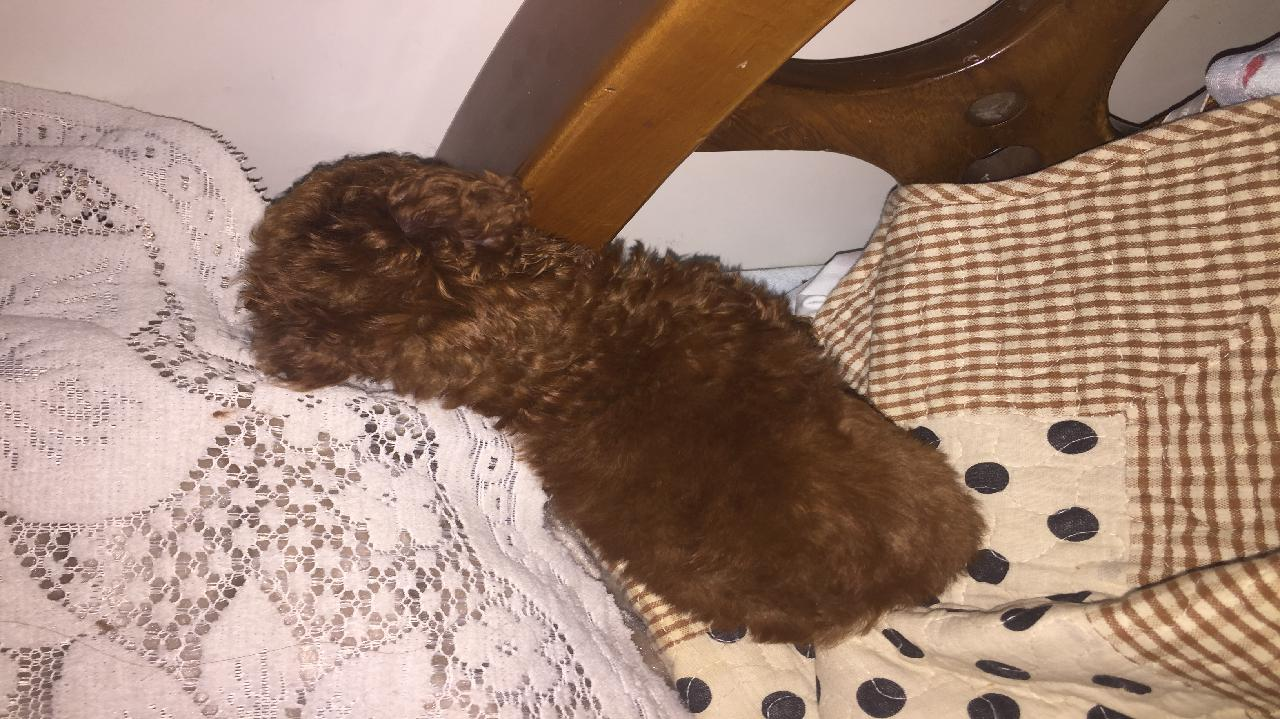coin: (228, 142, 1005, 639)
